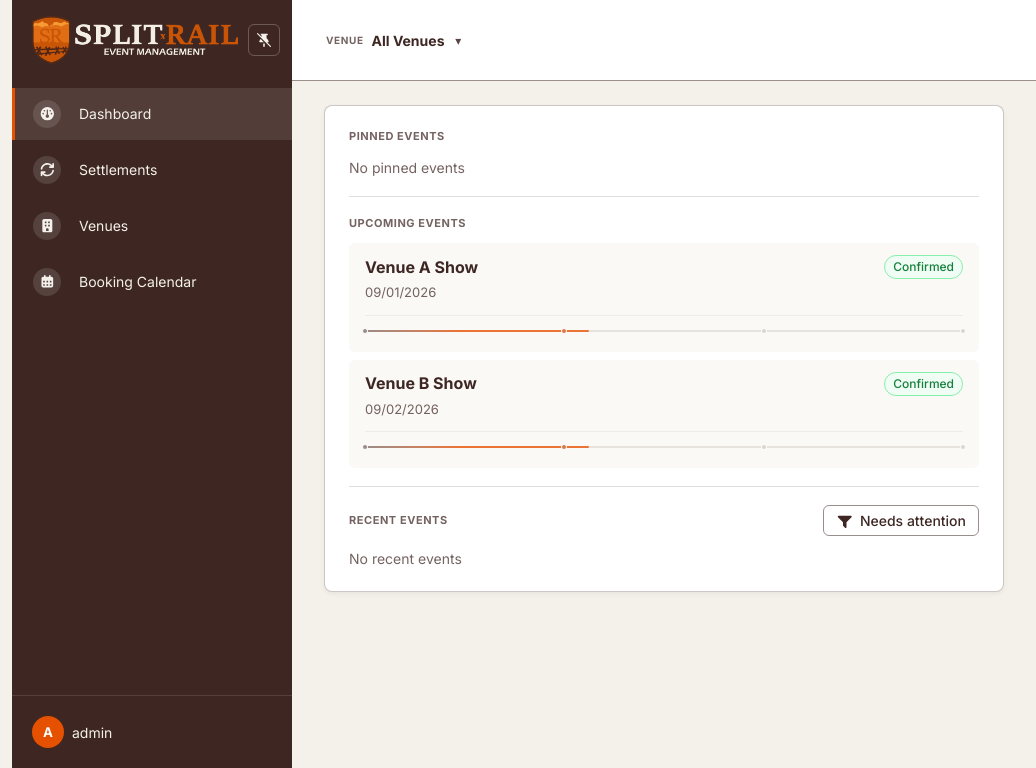
Test: DashboardOverviewPage › venue switch loads new dashboard fixture
This screenshot has width=1036, height=768.
Expected: the heading "Venue A Show" is shown, [365,257,478,277]
Expected: the heading "Venue B Show" is shown, [365,373,477,394]
Click the button with test id "venue-switcher-trigger" at coordinates (387, 40), box [324,26,450,54]
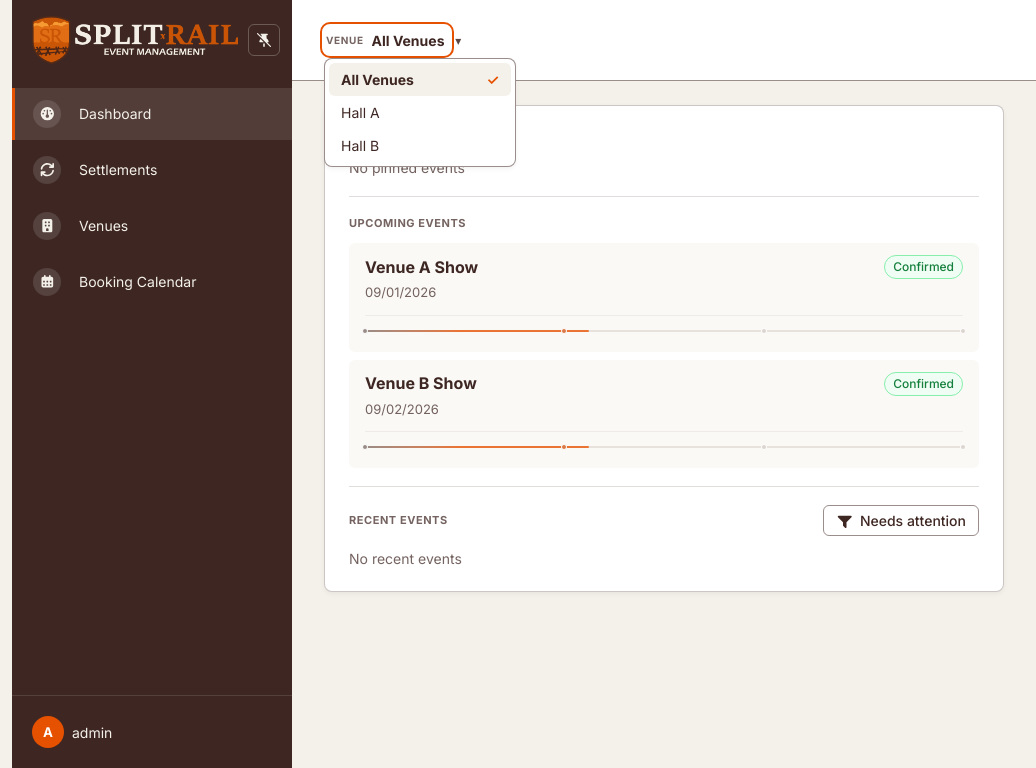
Click the option "Hall B" at coordinates (420, 146), box [329,129,511,162]
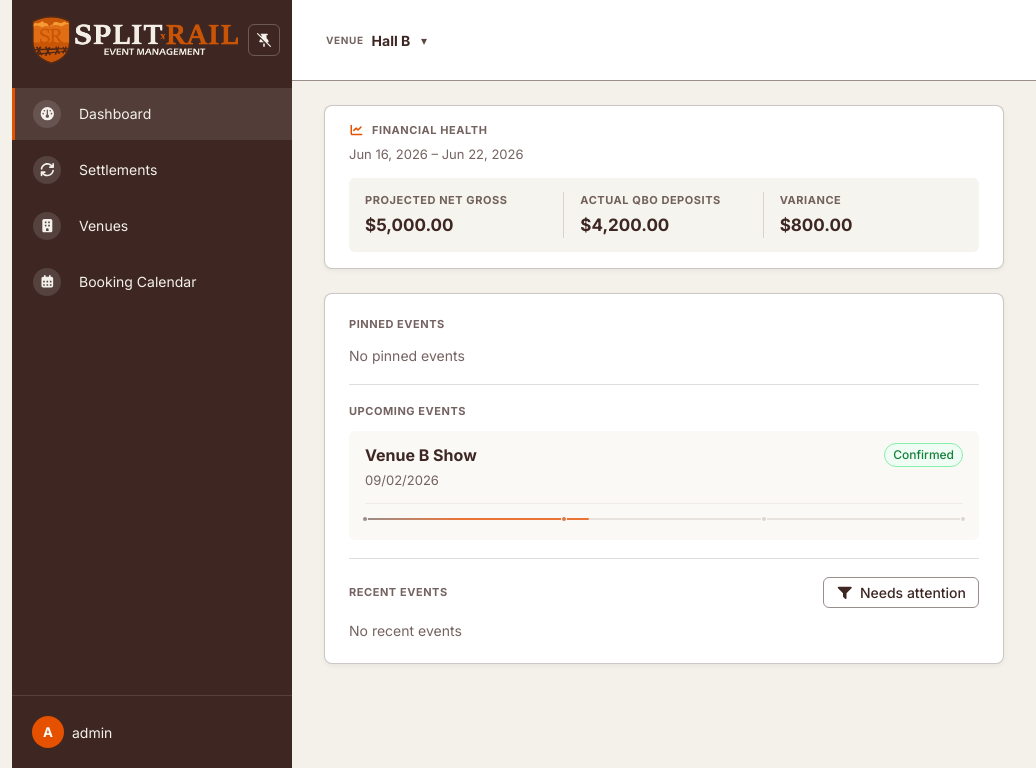
Expected: the heading "Venue B Show" is shown, [365,445,477,465]
Result: the button "Venue A Show" is gone
